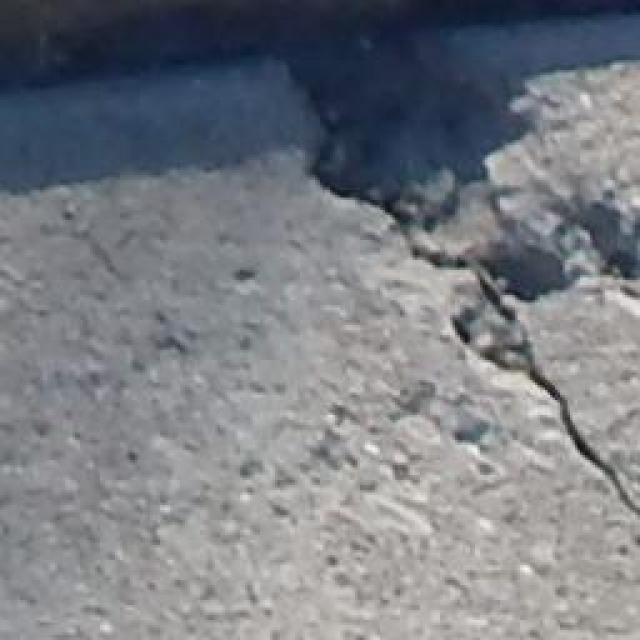concrete-crack: (0, 0, 640, 531)
